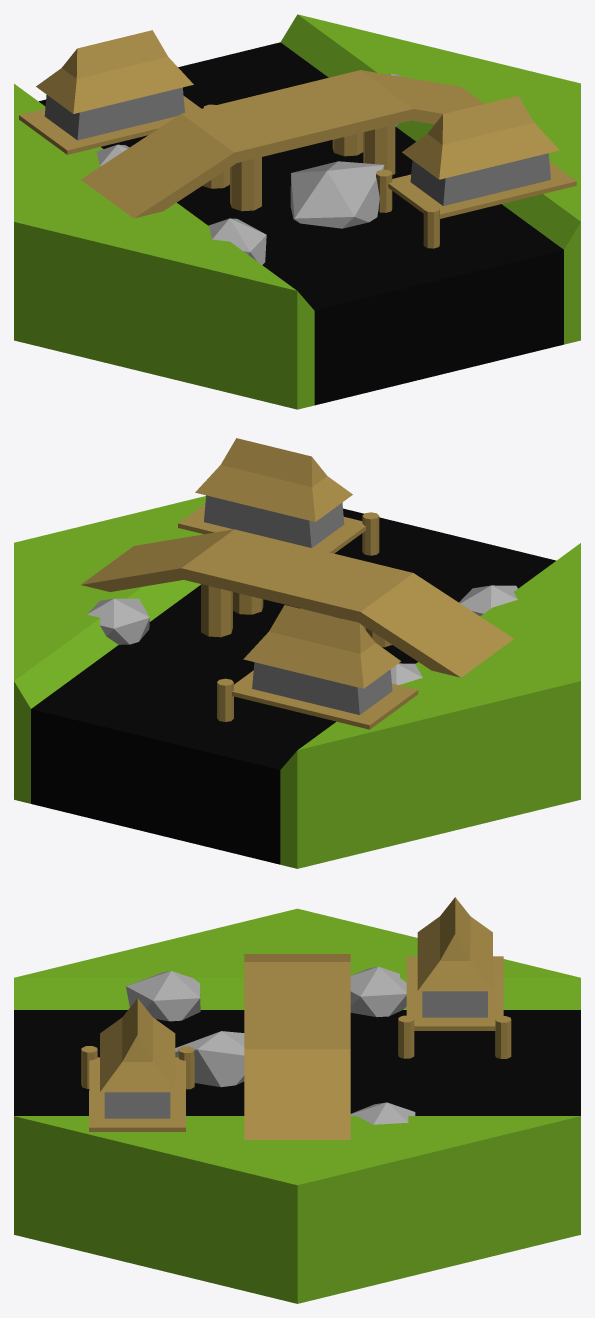
The model's file is Casas_Rio_3.fbx.
The picture shows the model from 3 angles, top to bottom: view 1: azimuth 30°, elevation 25°; view 2: azimuth 150°, elevation 25°; view 3: azimuth 270°, elevation 25°; orthographic projection.
Parts seen in each view (by area): view 1: Rio_3; view 2: Rio_3; view 3: Rio_3.
Part boxes in pixels (box(x1,y1,x2,y2)): Rio_3: box(14, 14, 580, 409); Rio_3: box(14, 438, 580, 868); Rio_3: box(14, 897, 580, 1303).
Size of the model in its own units: 200 by 67.29 by 173.
